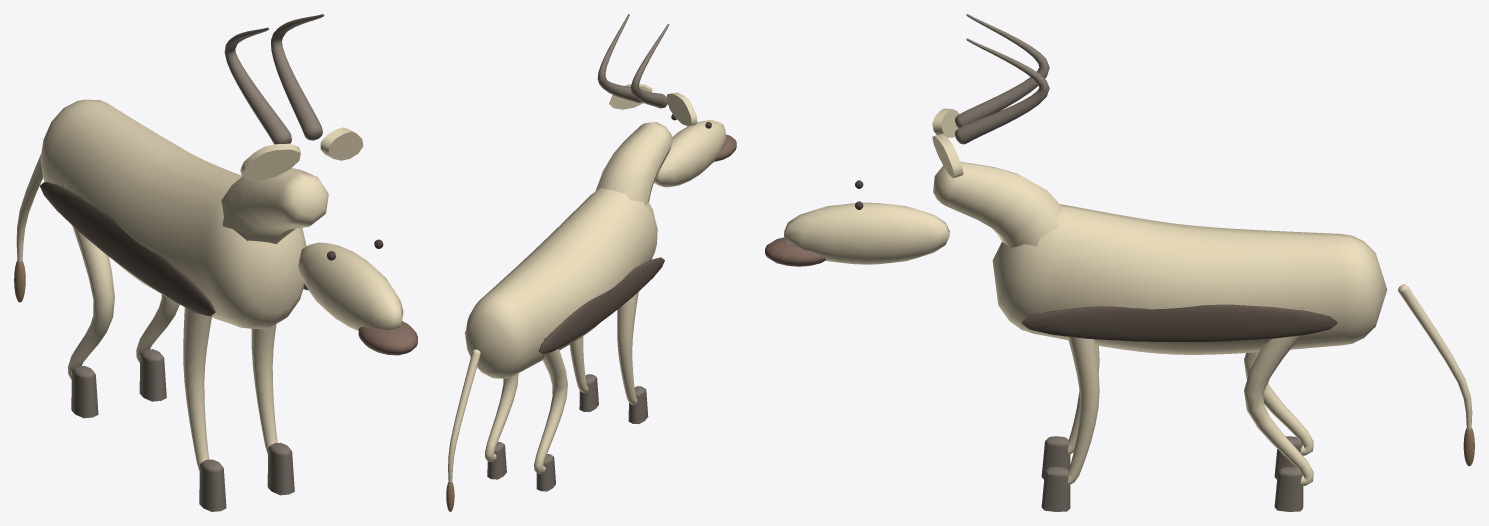
The model's file is savanna-wildlife-thomsons-gazelle-93889d0d__6550.glb.
3 renders of one model, left to right at view 1: azimuth 30°, elevation 25°; view 2: azimuth 150°, elevation 25°; view 3: azimuth 270°, elevation 25°, orthographic. The views are drawn at different scales.
Visible parts, largest first — view 1: thomsons-gazelle; view 2: thomsons-gazelle; view 3: thomsons-gazelle.
Boxes of the visible parts, <box> form: thomsons-gazelle: <box>14,14,417,511</box>; thomsons-gazelle: <box>446,14,736,511</box>; thomsons-gazelle: <box>765,14,1474,511</box>.
Size of the model in its own units: 0.3311 by 1.33 by 1.84.
